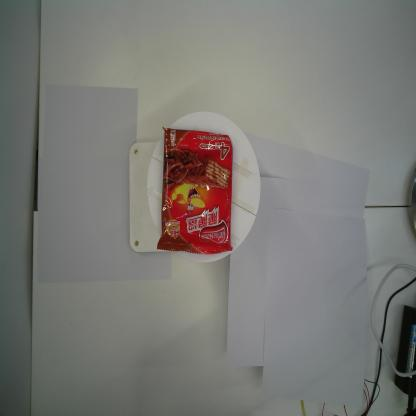Dessert: (157, 126, 233, 255)
